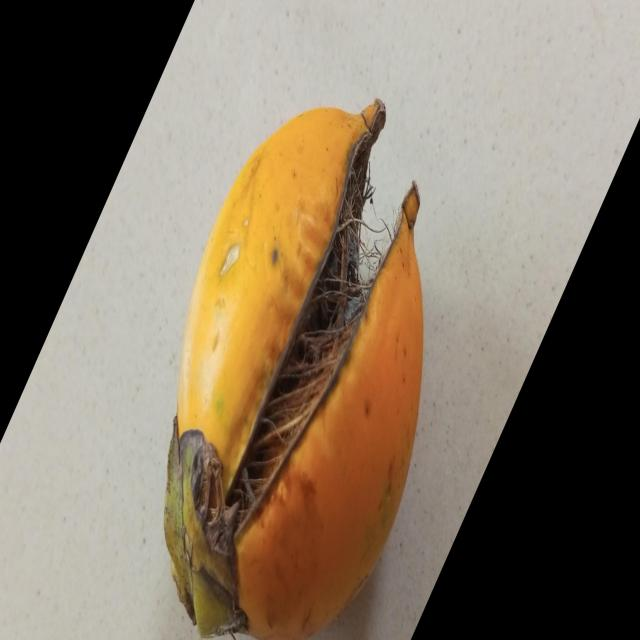damaged: (165, 103, 424, 640)
